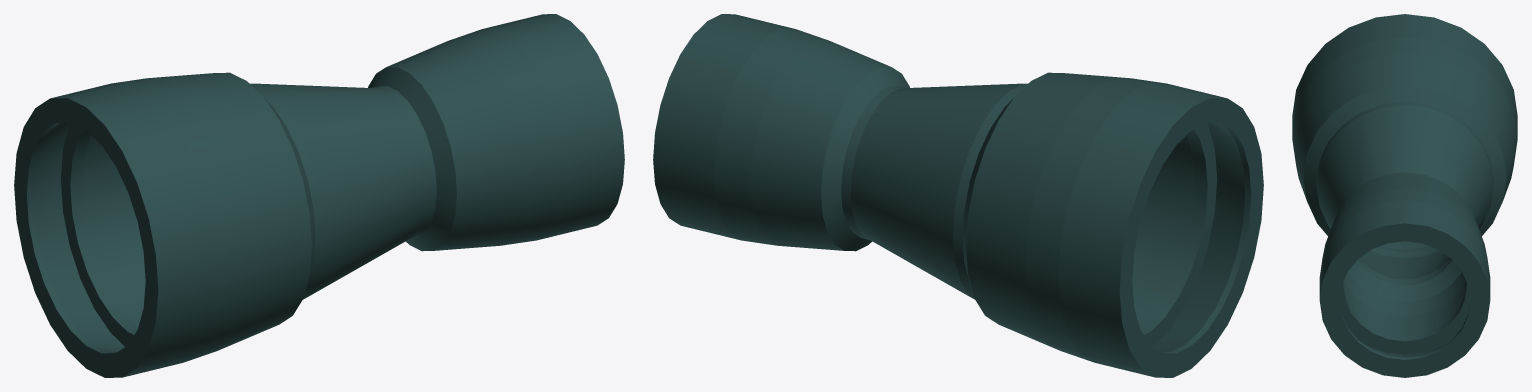
File: DSRED.glb
3 views of the same model, side by side, from view 1: azimuth 30°, elevation 25°; view 2: azimuth 150°, elevation 25°; view 3: azimuth 270°, elevation 25° (orthographic). The views are drawn at different scales.
Visible parts, largest first — view 1: RFMMR-1510NOEET(400); view 2: RFMMR-1510NOEET(400); view 3: RFMMR-1510NOEET(400).
Part boxes in pixels (x1,y1,x2,y2): RFMMR-1510NOEET(400): [14, 14, 624, 377]; RFMMR-1510NOEET(400): [653, 14, 1263, 377]; RFMMR-1510NOEET(400): [1292, 14, 1517, 377].
Size of the model in its own units: 0.408 by 0.2106 by 0.2106.
